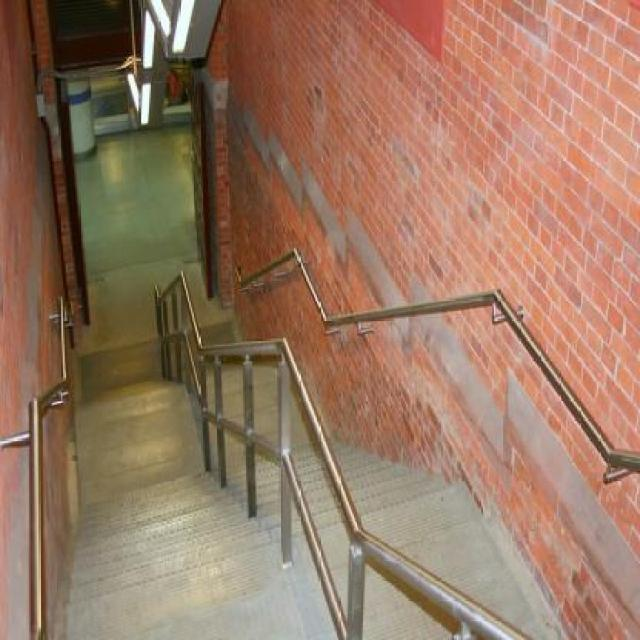stair: (55, 249, 280, 629)
